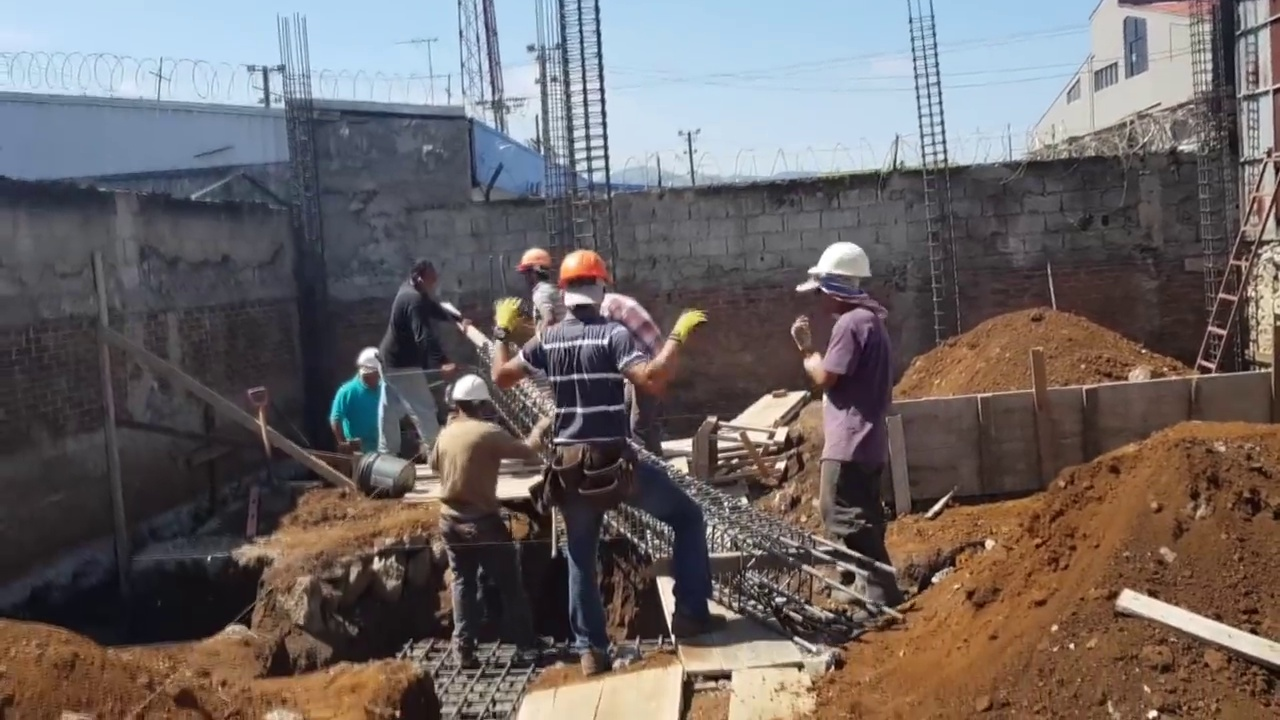helmet: (556, 248, 612, 291), (446, 373, 490, 403), (354, 346, 381, 370), (521, 245, 546, 265)
helmet-off: (400, 263, 435, 298)
helmet-on: (801, 241, 877, 321), (556, 248, 609, 312), (445, 374, 489, 427), (516, 244, 552, 283), (354, 347, 379, 385)
person: (536, 260, 681, 662), (802, 242, 902, 640), (433, 360, 543, 674), (380, 266, 461, 466), (322, 343, 396, 452), (487, 247, 568, 336)
